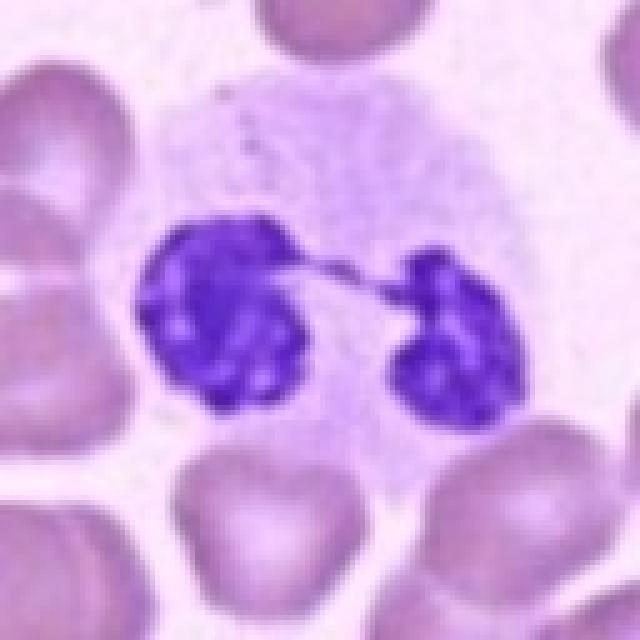neutro: (67, 39, 589, 521)
